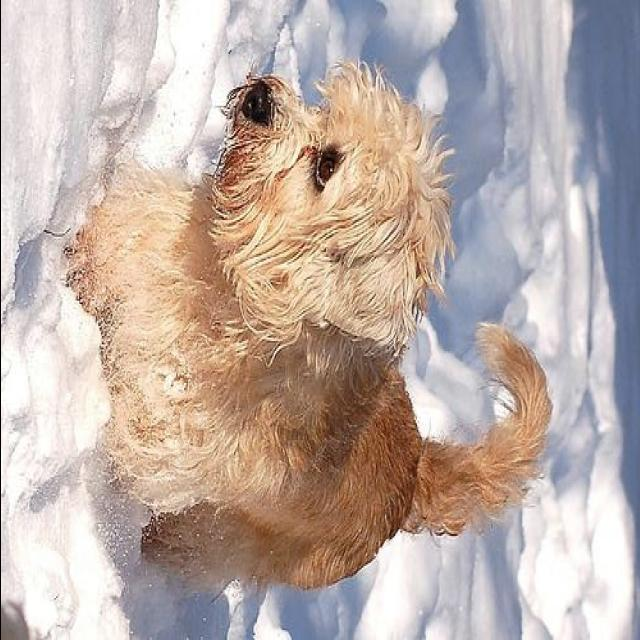dandie_dinmont: (75, 60, 553, 592)
